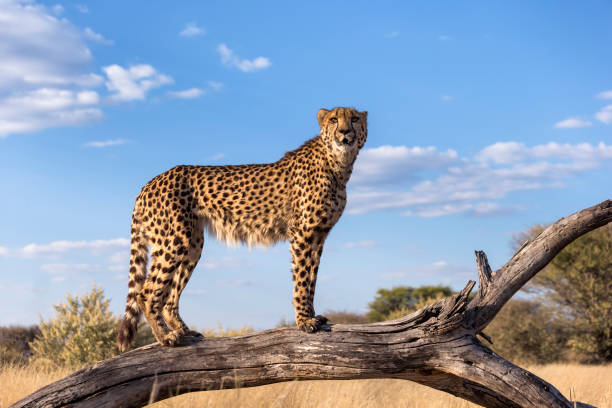cheetah: (312, 102, 384, 169)
